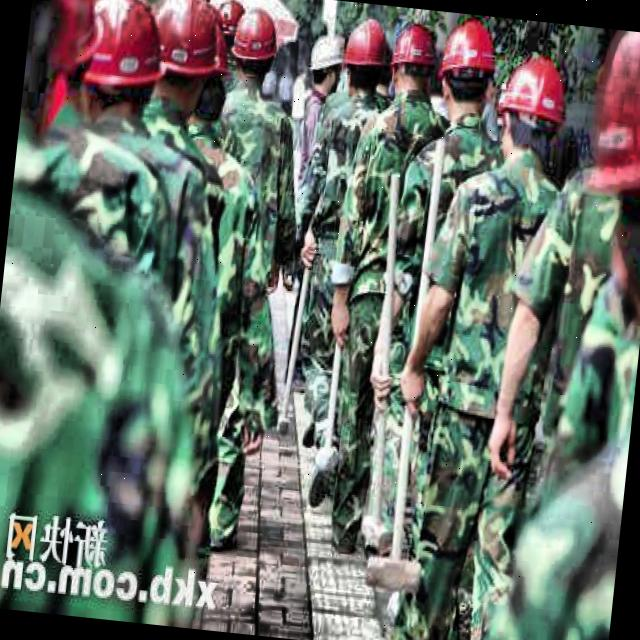helmet: (574, 31, 640, 281), (74, 0, 163, 125), (21, 0, 105, 120), (496, 54, 571, 168), (148, 0, 216, 109), (435, 15, 501, 124), (227, 1, 284, 86), (386, 18, 442, 103), (341, 11, 392, 100), (301, 24, 348, 99), (212, 0, 244, 46)
